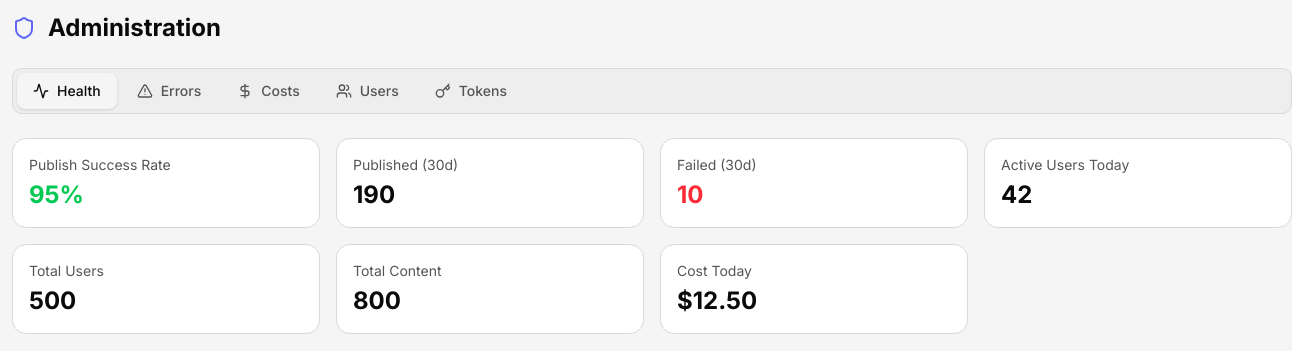
Scenario: AdminPage › renders Tokens tab with expiring tokens
The width and height of the screenshot is (1292, 351).
Expected: the text "Publish Success Rate" is shown, [29,156,171,173]
Click the button "Tokens".
click(471, 91)  # box [419,73,523,109]
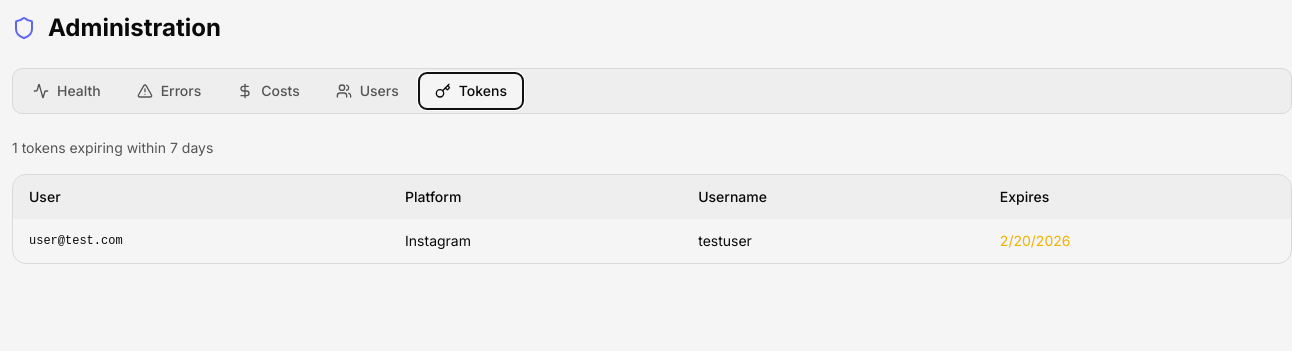
Expected: the text "1 tokens expiring within 7 days" is shown, [12,139,213,156]
Expected: the text "testuser" is shown, [682,219,984,263]
